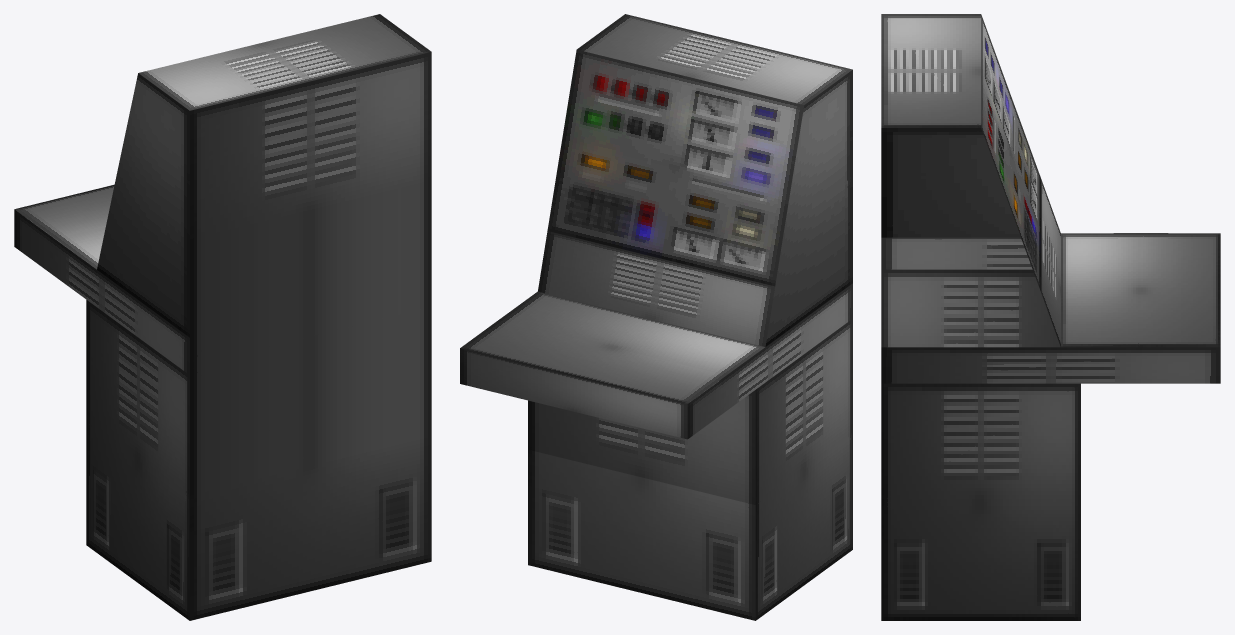
File: primary_085.glb
The picture shows the model from 3 angles, left to right: view 1: azimuth 30°, elevation 25°; view 2: azimuth 150°, elevation 25°; view 3: azimuth 270°, elevation 25°; orthographic projection. The views are drawn at different scales.
Parts seen in each view (by area): view 1: Object; view 2: Object; view 3: Object.
Boxes of the visible parts, x1,y1,x2,y2 form: Object: (14,14,431,620); Object: (460,14,852,620); Object: (881,14,1220,620).
Size of the model in its own units: 0.8845 by 1.78 by 1.11.
Materials: 20 (20 with a texture image).
